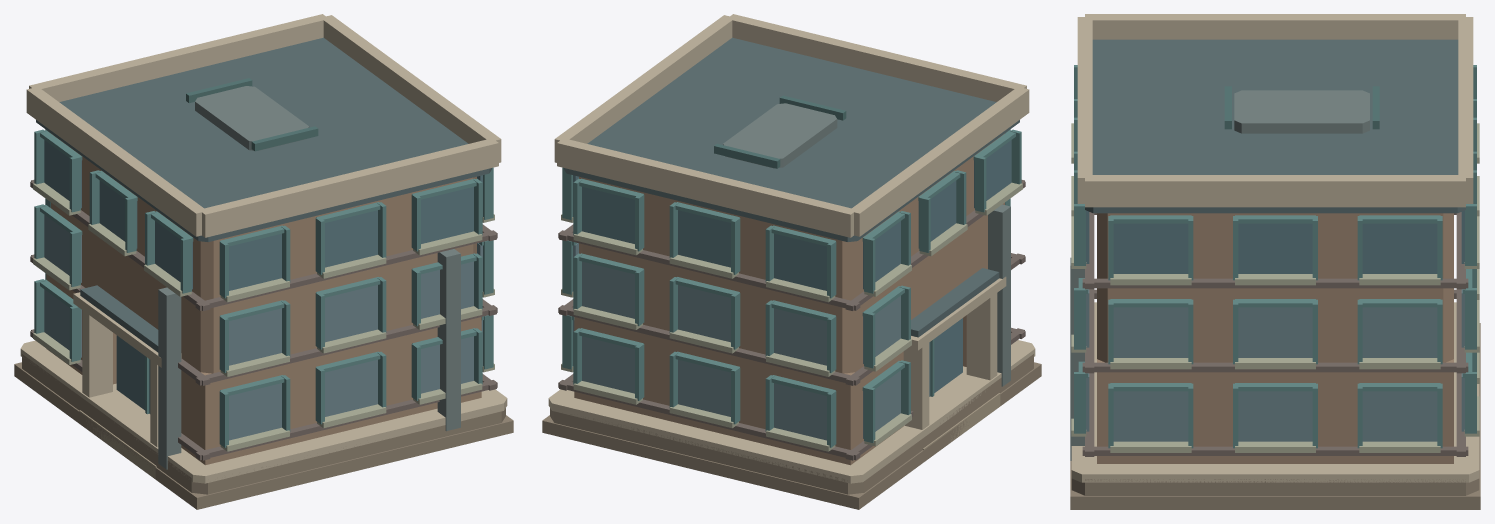
The model's file is sport-lab.glb.
3 views of the same model, side by side, from view 1: azimuth 30°, elevation 25°; view 2: azimuth 150°, elevation 25°; view 3: azimuth 270°, elevation 25° (orthographic). The views are drawn at different scales.
Visible parts, largest first — view 1: form, relief, glaze, glowing; view 2: form, relief, glaze, glowing; view 3: form, glaze, relief, glowing.
Boxes of the visible parts, bbox=[...] form: form: bbox=[14, 14, 513, 509]; relief: bbox=[33, 129, 494, 451]; glaze: bbox=[44, 180, 482, 440]; glowing: bbox=[44, 140, 482, 290]; form: bbox=[542, 14, 1041, 509]; relief: bbox=[561, 129, 1022, 451]; glaze: bbox=[573, 140, 1011, 440]; glowing: bbox=[582, 187, 900, 289]; form: bbox=[1070, 14, 1480, 509]; glaze: bbox=[1086, 210, 1464, 441]; relief: bbox=[1071, 65, 1479, 452]; glowing: bbox=[1113, 210, 1464, 273].
Bounding box in the file's own units: 8 × 7 × 8.
